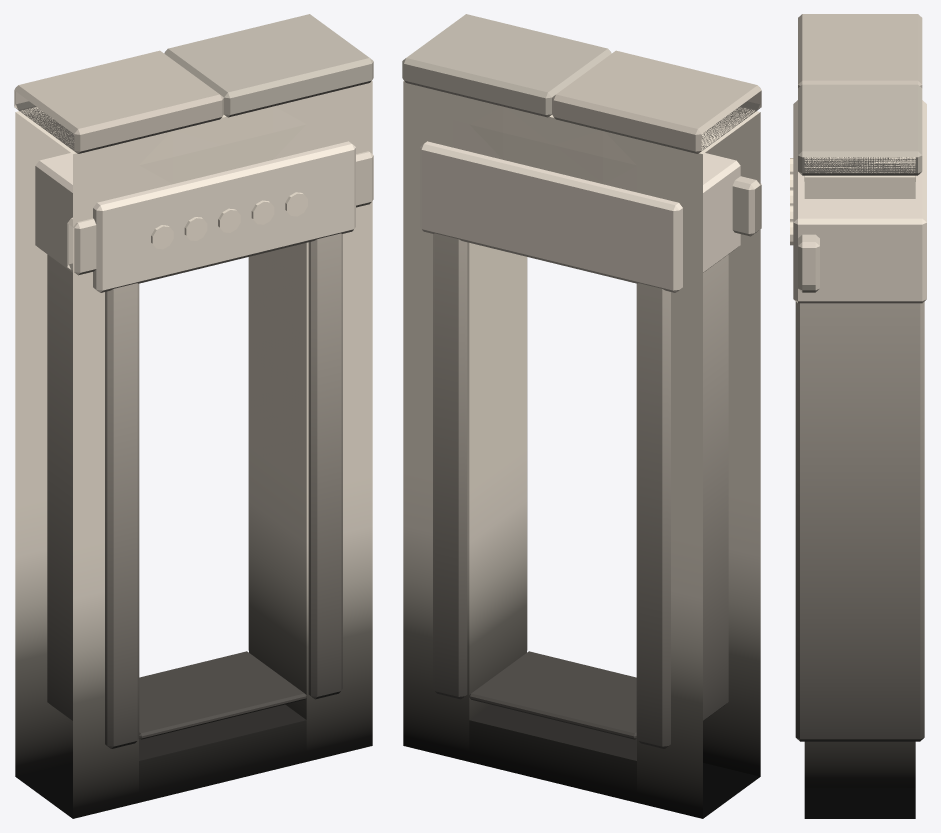
Rendered from SM_VKI_Wall_Ancient_Door_150_Full.fbx.
The picture shows the model from 3 angles, left to right: view 1: azimuth 30°, elevation 25°; view 2: azimuth 150°, elevation 25°; view 3: azimuth 270°, elevation 25°; orthographic projection. The views are drawn at different scales.
Parts seen in each view (by area): view 1: SM_VKI_Wall_Ancient_Door_150_Full.001; view 2: SM_VKI_Wall_Ancient_Door_150_Full.001; view 3: SM_VKI_Wall_Ancient_Door_150_Full.001.
Part boxes in pixels (x1,y1,x2,y2): SM_VKI_Wall_Ancient_Door_150_Full.001: (14,14,373,818); SM_VKI_Wall_Ancient_Door_150_Full.001: (402,14,761,818); SM_VKI_Wall_Ancient_Door_150_Full.001: (790,14,926,818).
Bounding box in the file's own units: 1.5 × 3.3 × 0.615.
